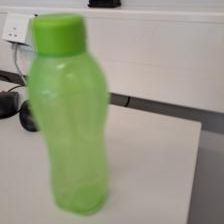bottle: (18, 9, 113, 213)
